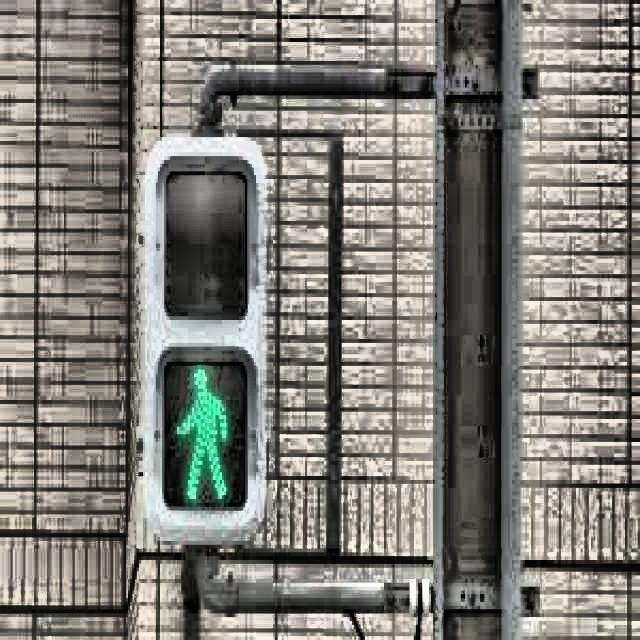semaforo pedestre: (104, 78, 324, 585), (156, 348, 246, 510)
